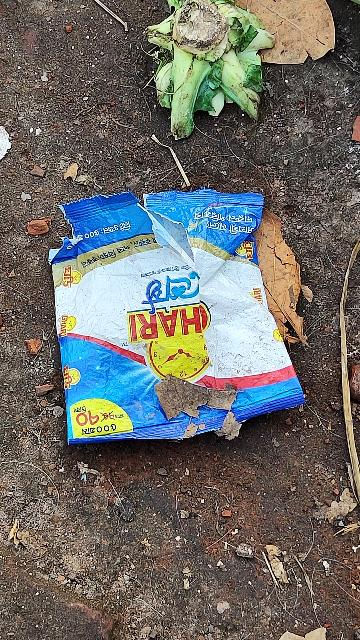packet: (47, 195, 299, 444)
